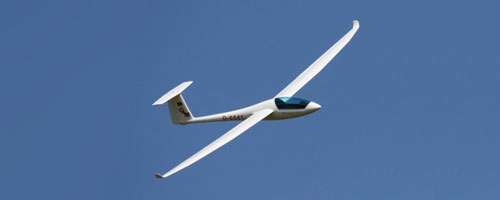Aeronef_de_loisir: (147, 16, 362, 182)
